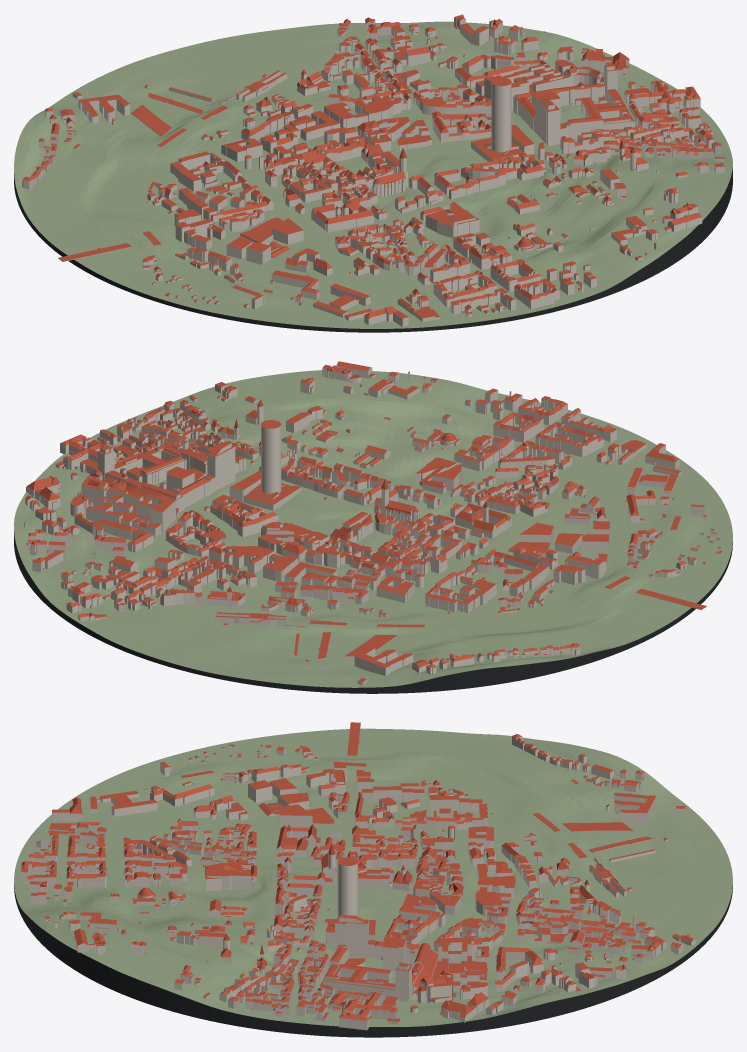
Rendered from JenaCentre_LoD2_600m.obj.
The picture shows the model from 3 angles, top to bottom: view 1: azimuth 30°, elevation 25°; view 2: azimuth 150°, elevation 25°; view 3: azimuth 270°, elevation 25°; orthographic projection.
Visible parts, largest first — view 1: ground, wall, roof, base; view 2: ground, wall, roof, base; view 3: ground, wall, roof, base.
Boxes of the visible parts, x1=… form: ground: x1=14, y1=21, x2=732, y2=328; wall: x1=22, y1=17, x2=724, y2=326; roof: x1=22, y1=14, x2=724, y2=318; base: x1=14, y1=168, x2=732, y2=332; ground: x1=14, y1=370, x2=732, y2=687; wall: x1=24, y1=366, x2=722, y2=685; roof: x1=24, y1=361, x2=722, y2=682; base: x1=14, y1=531, x2=732, y2=693; ground: x1=14, y1=728, x2=732, y2=1026; wall: x1=21, y1=726, x2=695, y2=1030; roof: x1=21, y1=722, x2=693, y2=1021; base: x1=14, y1=885, x2=732, y2=1037.
Bounding box in the file's own units: 1231 × 147 × 1200.
